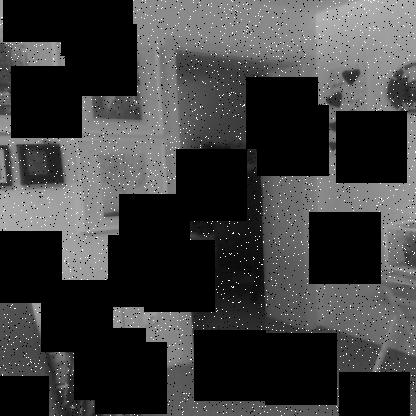Porte: (159, 34, 322, 366)
